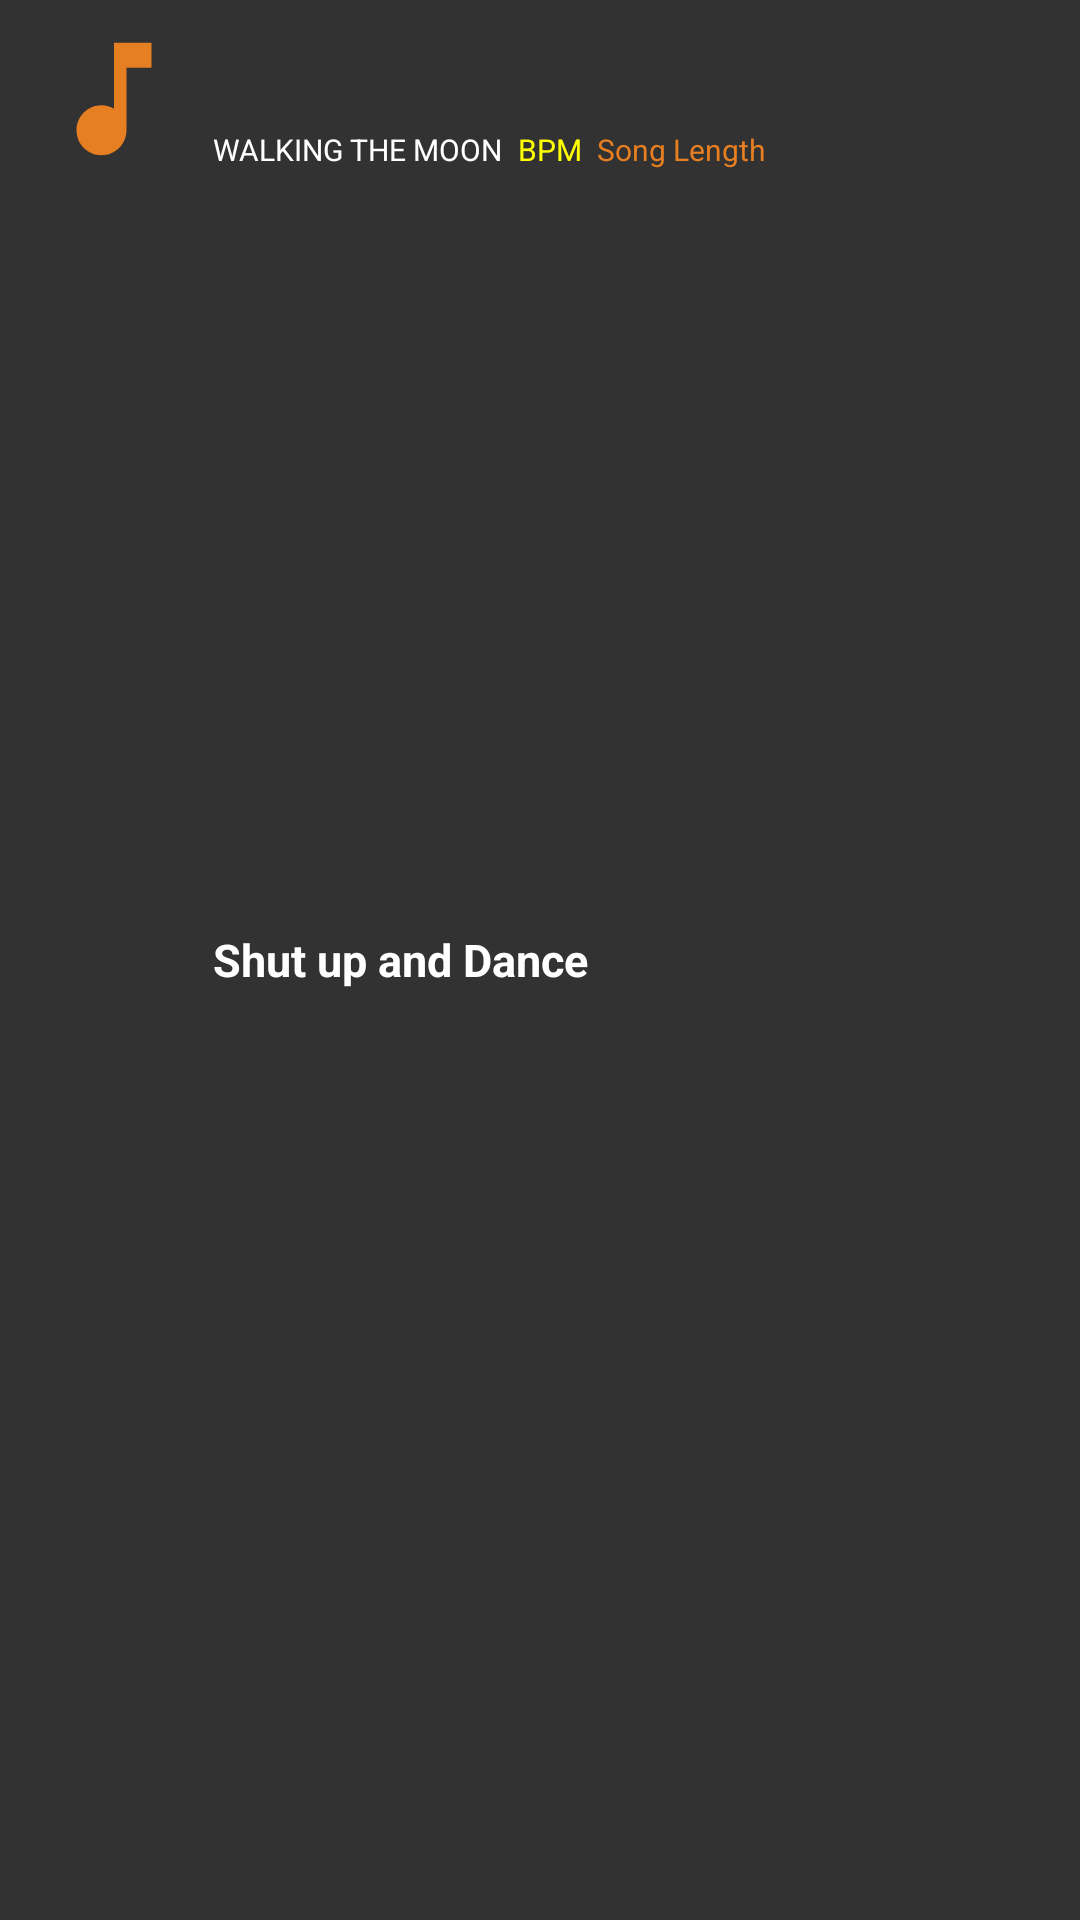

Named icons in this screenshot (1080*1920) and their bounding boxes, (x1, y1, x2, y2):
music note: (76, 42, 152, 156)
